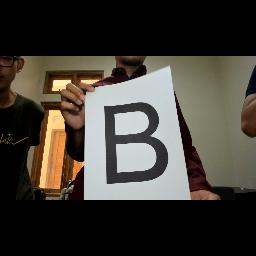b: (93, 99, 173, 187)
